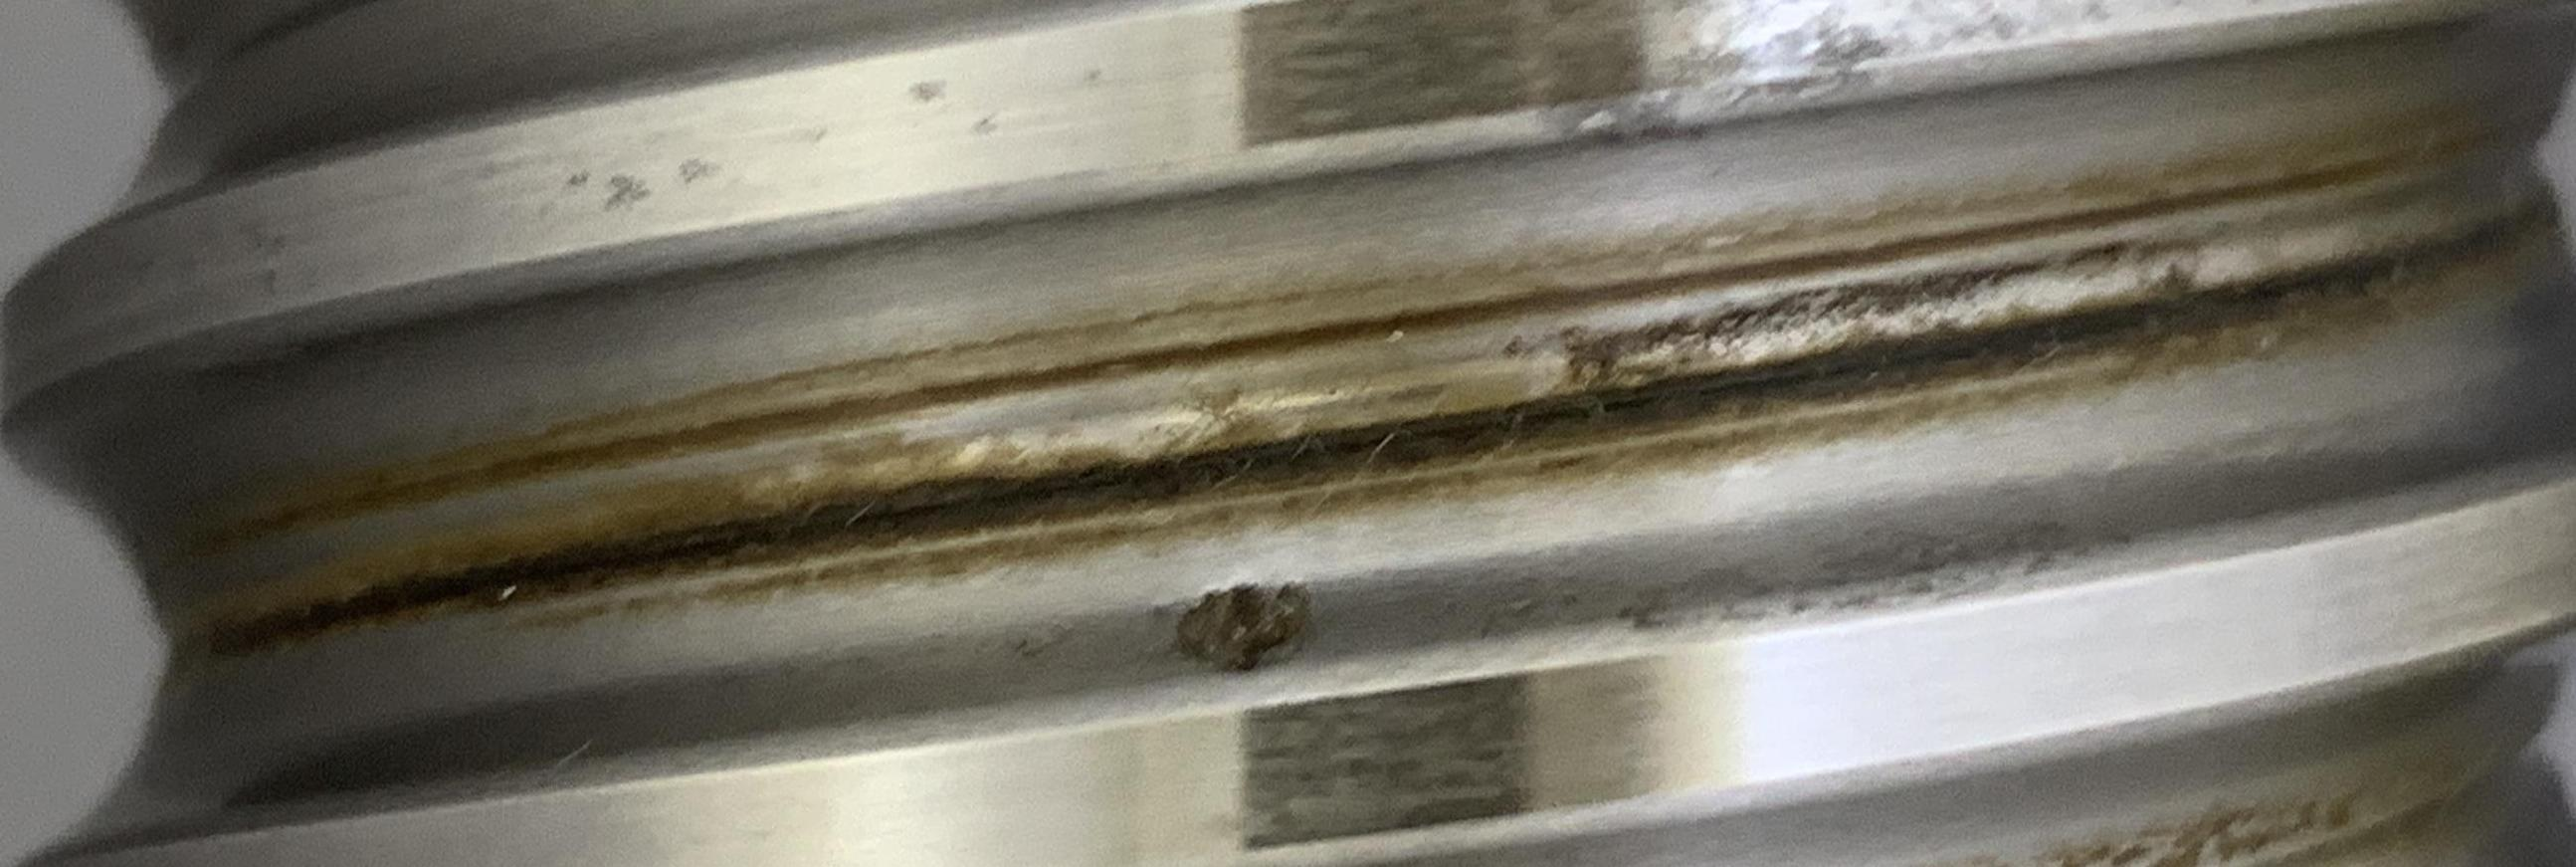pitting: (1175, 581, 1311, 673)
